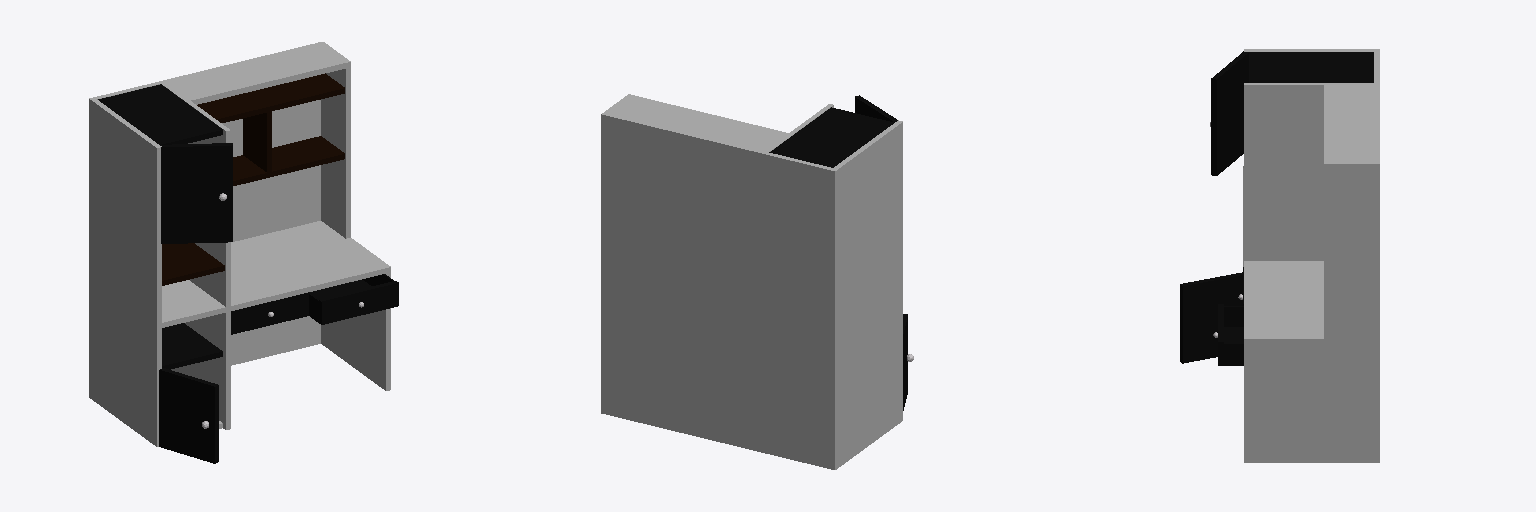
Rendered from desk8.obj.
The picture shows the model from 3 angles: view 1: azimuth 30°, elevation 25°; view 2: azimuth 150°, elevation 25°; view 3: azimuth 270°, elevation 25°; orthographic projection.
Visible parts, largest first — view 1: BasicDesk_TwoDrawers&TwoCabinets, TopCabinet.001, DownCabinet, RightDrawer, LeftDrawer; view 2: BasicDesk_TwoDrawers&TwoCabinets; view 3: BasicDesk_TwoDrawers&TwoCabinets, DownCabinet, TopCabinet.001, RightDrawer.
Part boxes in pixels (x1,y1,x2,y2): BasicDesk_TwoDrawers&TwoCabinets: (89,42,390,446); TopCabinet.001: (160,143,232,243); DownCabinet: (159,368,218,463); RightDrawer: (309,274,398,324); LeftDrawer: (231,292,308,334); BasicDesk_TwoDrawers&TwoCabinets: (601,94,902,469); BasicDesk_TwoDrawers&TwoCabinets: (1243,49,1379,462); DownCabinet: (1180,272,1242,363); TopCabinet.001: (1210,51,1248,175); RightDrawer: (1213,304,1243,365).
Bounding box in the file's own units: 2.78 × 3.4 × 2.05.